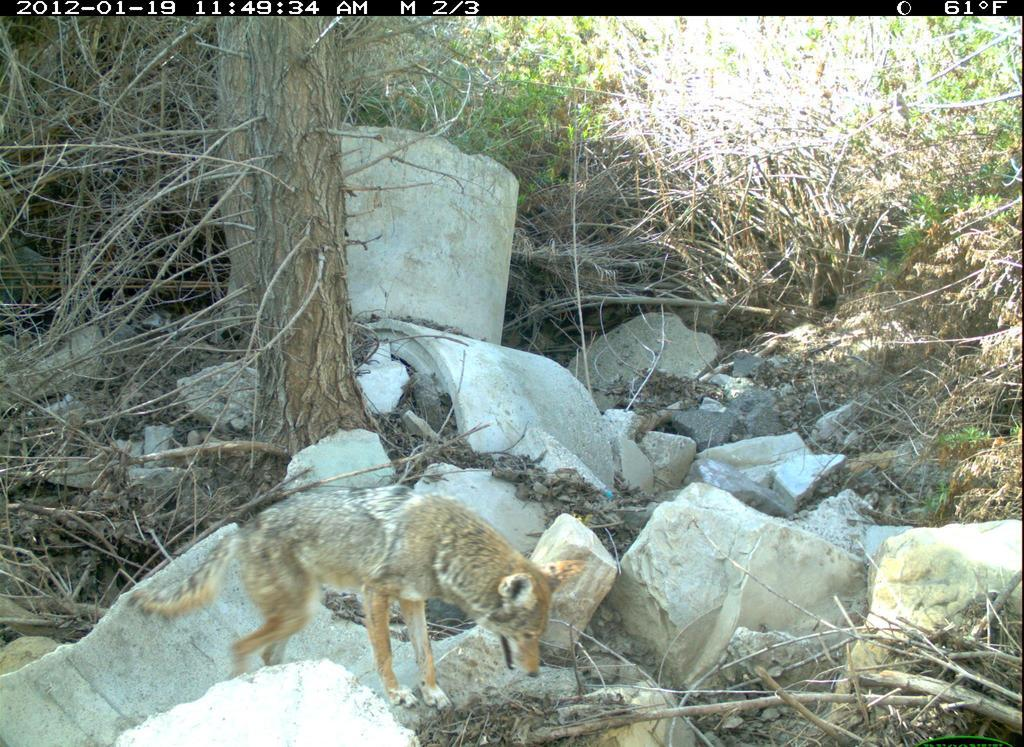coyote: (121, 475, 564, 721)
